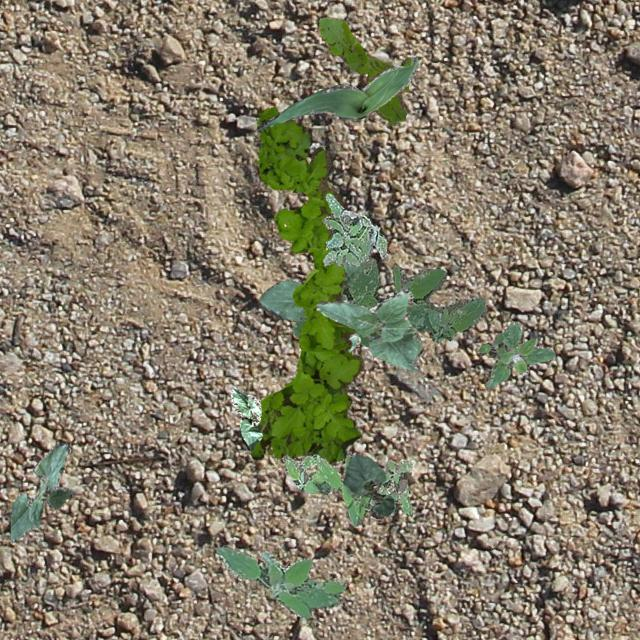crop: (256, 54, 417, 130), (316, 288, 422, 371), (256, 260, 366, 320), (10, 442, 74, 542), (342, 452, 394, 518), (230, 386, 262, 449), (347, 304, 375, 352)
weed: (250, 106, 362, 462), (290, 256, 487, 362), (318, 15, 410, 124), (282, 452, 412, 526), (216, 546, 346, 618), (476, 321, 554, 388), (322, 192, 386, 266)
